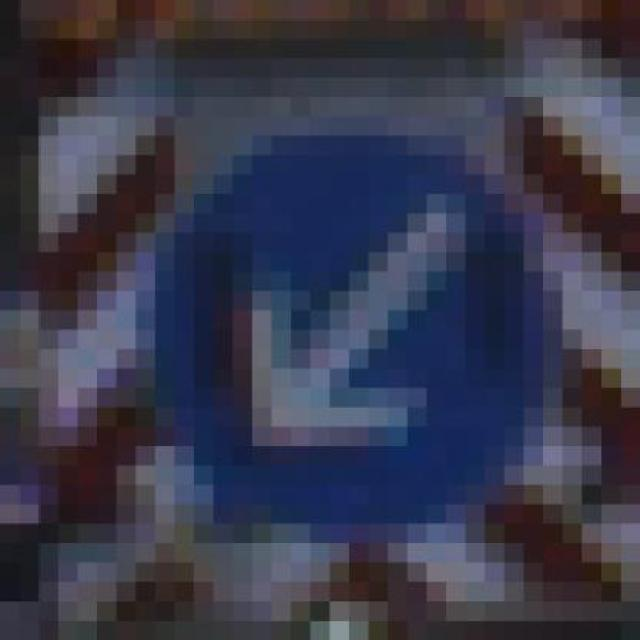Keep-Left: (136, 97, 582, 543)
